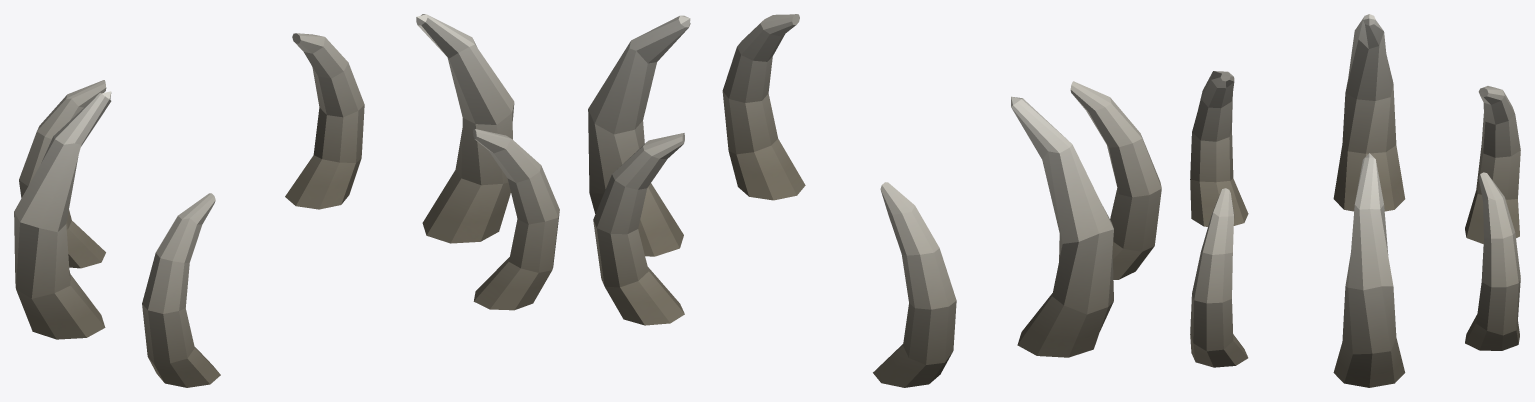
File: Big_bones.fbx
The picture shows the model from 3 angles, left to right: view 1: azimuth 30°, elevation 25°; view 2: azimuth 150°, elevation 25°; view 3: azimuth 270°, elevation 25°; orthographic projection. The views are drawn at different scales.
Parts seen in each view (by area): view 1: Bones.001; view 2: Bones.001; view 3: Bones.001.
Part boxes in pixels (x1,y1,x2,y2): Bones.001: (14, 14, 559, 387); Bones.001: (588, 14, 1161, 387); Bones.001: (1190, 14, 1520, 387).
Bounding box in the file's own units: 11.53 × 7.39 × 4.94.
